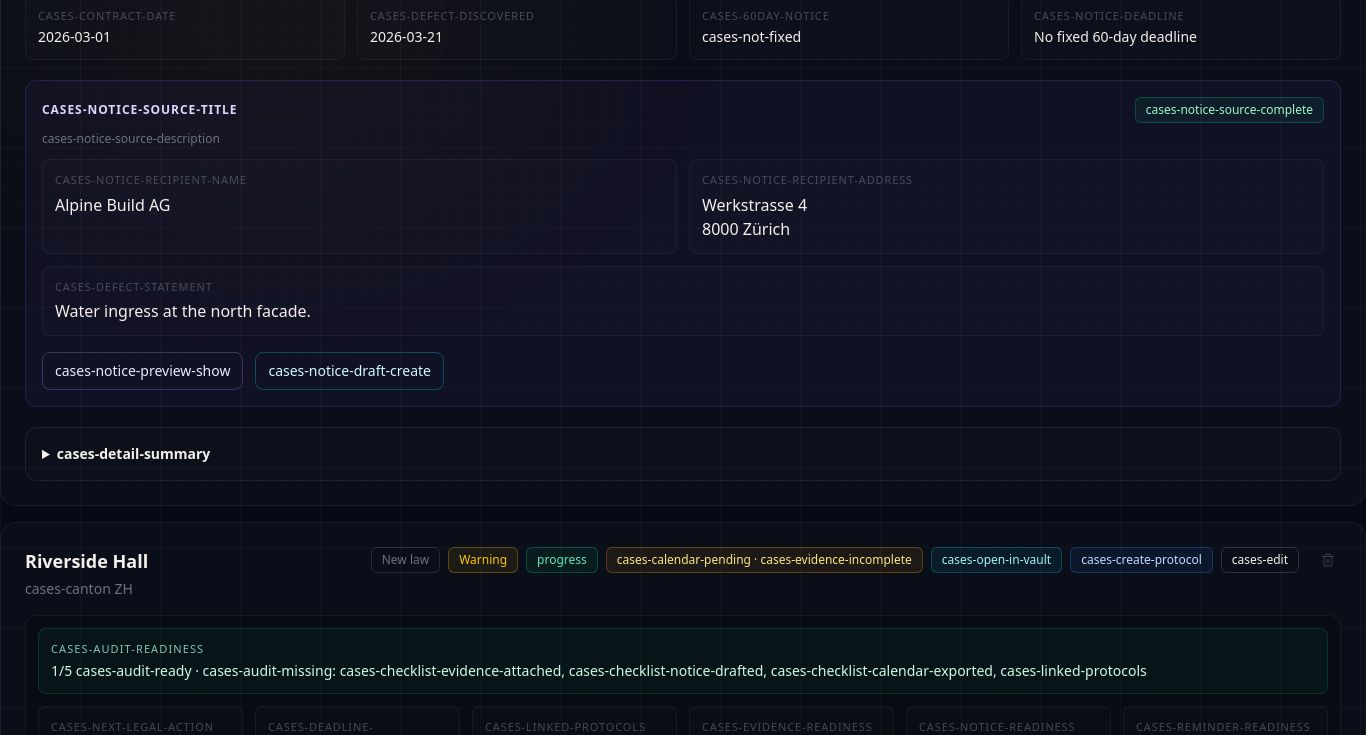
Test: cases inline edit › localizes the no-fixed-deadline value in old-law notice previews
(page scrolled)
Click the button "cases-notice-preview-show": [143, 371] box x1=42 y1=352 x2=243 y2=390
(page scrolled)
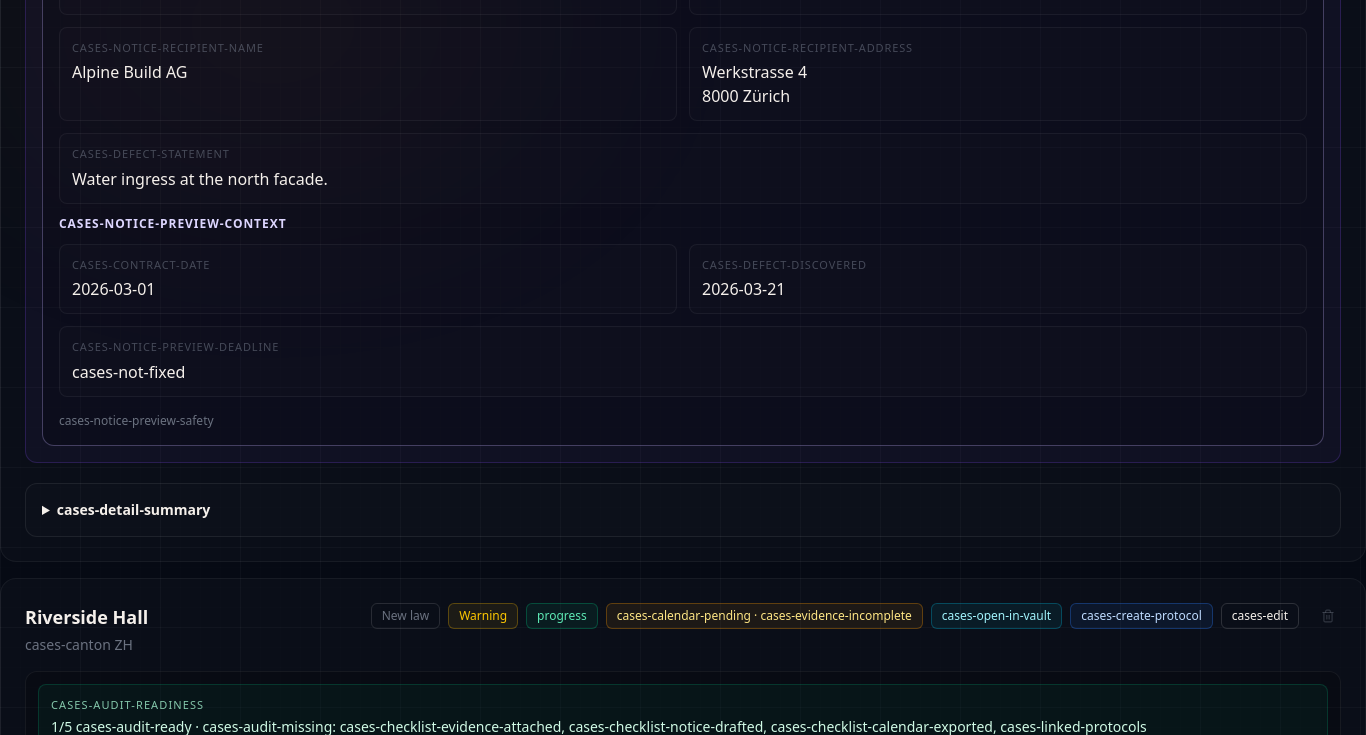
expect the text "No fixed 60-day deadline" is not shown: met
expect the text "cases-not-fixed" is shown: met, box x1=72 y1=361 x2=185 y2=383
